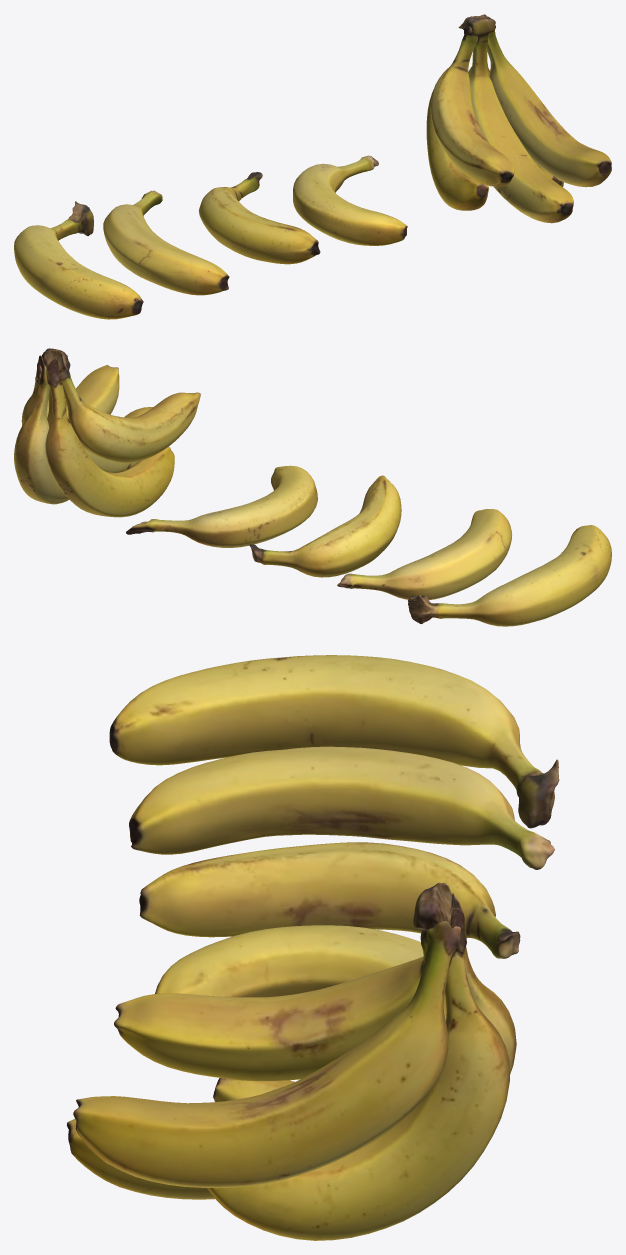
File: bananas.glb
The picture shows the model from 3 angles, top to bottom: view 1: azimuth 30°, elevation 25°; view 2: azimuth 150°, elevation 25°; view 3: azimuth 270°, elevation 25°; orthographic projection. The views are drawn at different scales.
Parts seen in each view (by area): view 1: bananas_bunch, bananas_d, bananas_c, bananas_a, bananas_b; view 2: bananas_bunch, bananas_d, bananas_c, bananas_a, bananas_b; view 3: bananas_bunch, bananas_d, bananas_c, bananas_b, bananas_a.
Boxes of the visible parts, x1=… form: bananas_bunch: x1=426, y1=14, x2=611, y2=223; bananas_d: x1=14, y1=201, x2=143, y2=319; bananas_c: x1=103, y1=190, x2=229, y2=295; bananas_a: x1=293, y1=155, x2=407, y2=245; bananas_b: x1=198, y1=172, x2=320, y2=264; bananas_bunch: x1=14, y1=348, x2=200, y2=517; bananas_d: x1=408, y1=525, x2=611, y2=626; bananas_c: x1=337, y1=509, x2=511, y2=600; bananas_a: x1=126, y1=465, x2=317, y2=547; bananas_b: x1=249, y1=475, x2=401, y2=577; bananas_bunch: x1=67, y1=882, x2=516, y2=1240; bananas_d: x1=109, y1=655, x2=559, y2=828; bananas_c: x1=129, y1=746, x2=554, y2=869; bananas_b: x1=139, y1=842, x2=520, y2=958; bananas_a: x1=155, y1=925, x2=423, y2=997.
Bounding box in the file's own units: 0.6 × 0.1788 × 0.2441.
1 material, 1 textured.
